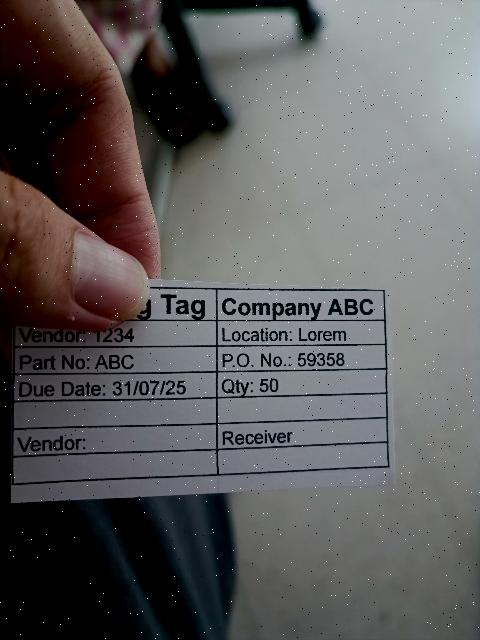PO no: (217, 344, 386, 372)
part no: (13, 346, 218, 376)
qty: (217, 367, 387, 399)
tags: (11, 280, 393, 502)
